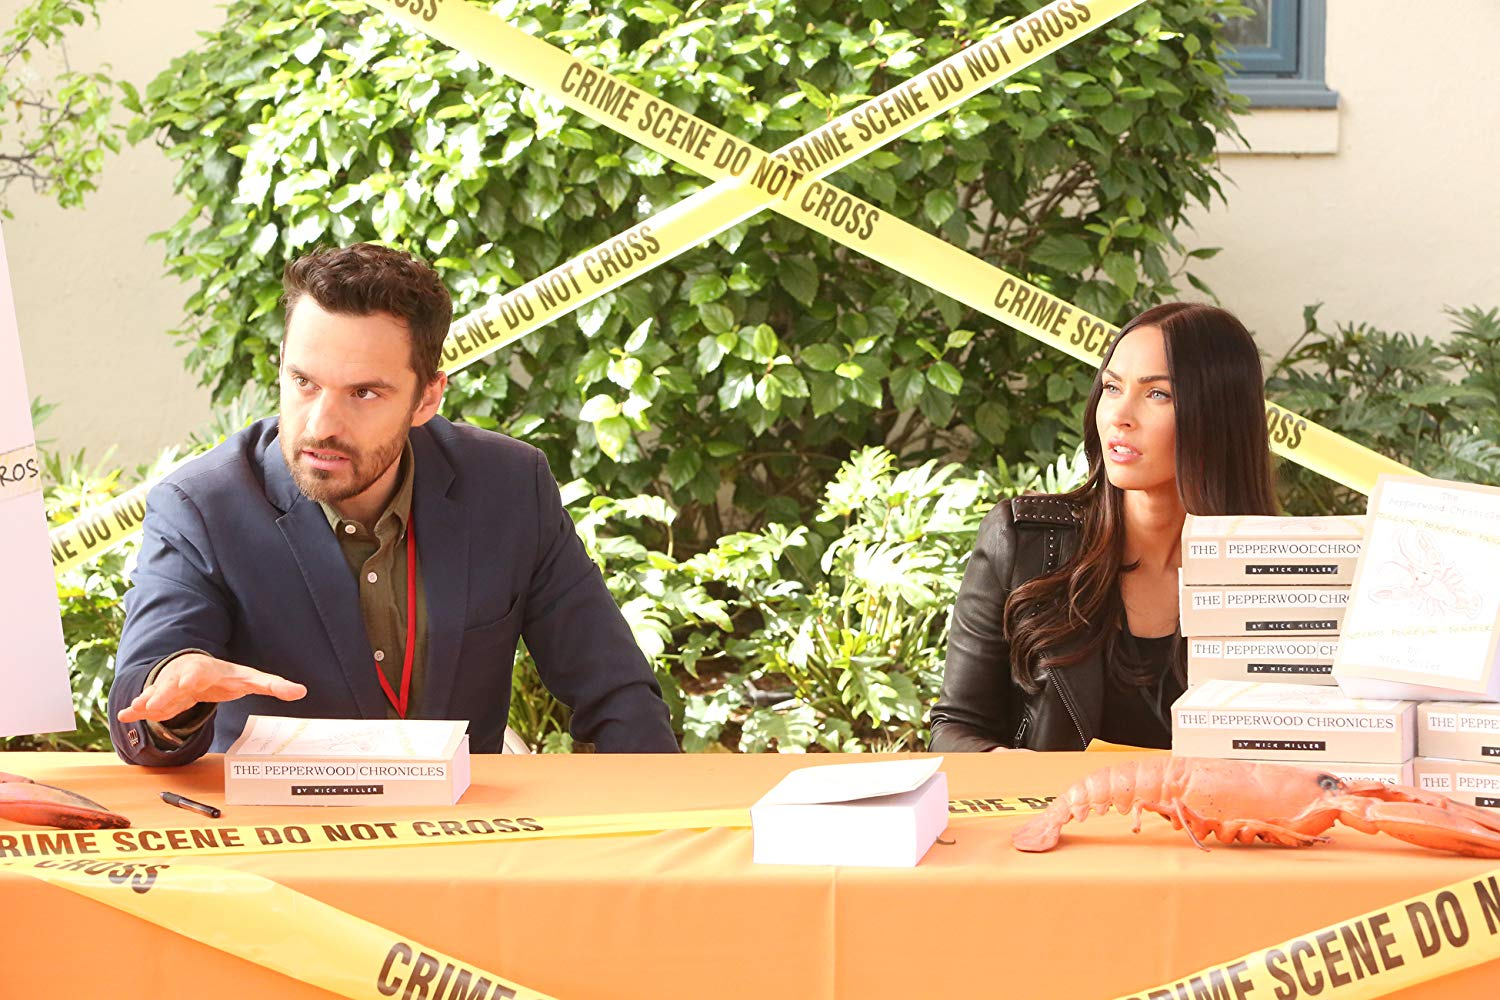person: (120, 241, 691, 763), (946, 295, 1277, 759)
